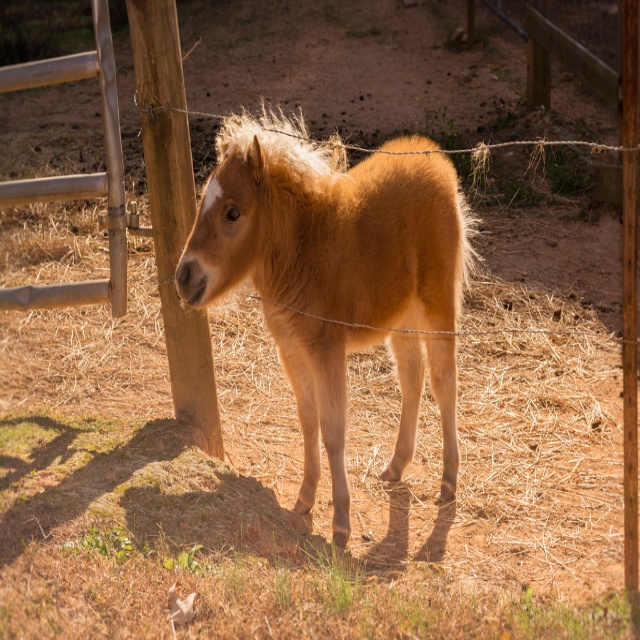Horse: (174, 94, 486, 547)
